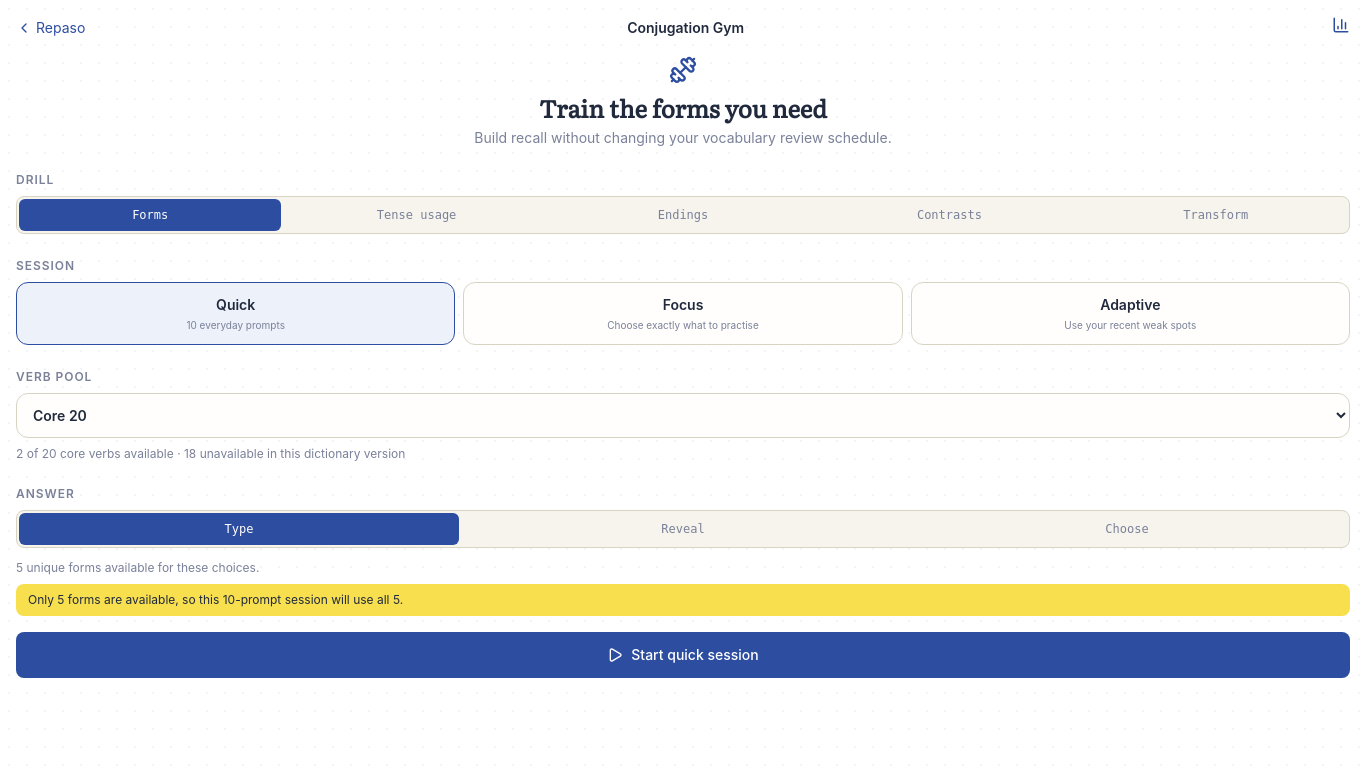
Conjugation Gym setup › loads the verified Spelling-change pack through the same registry
Select "Spelling changes" in the dropdown named "Verb pool". click: (683, 415)
box: left=16, top=392, right=1350, bottom=438
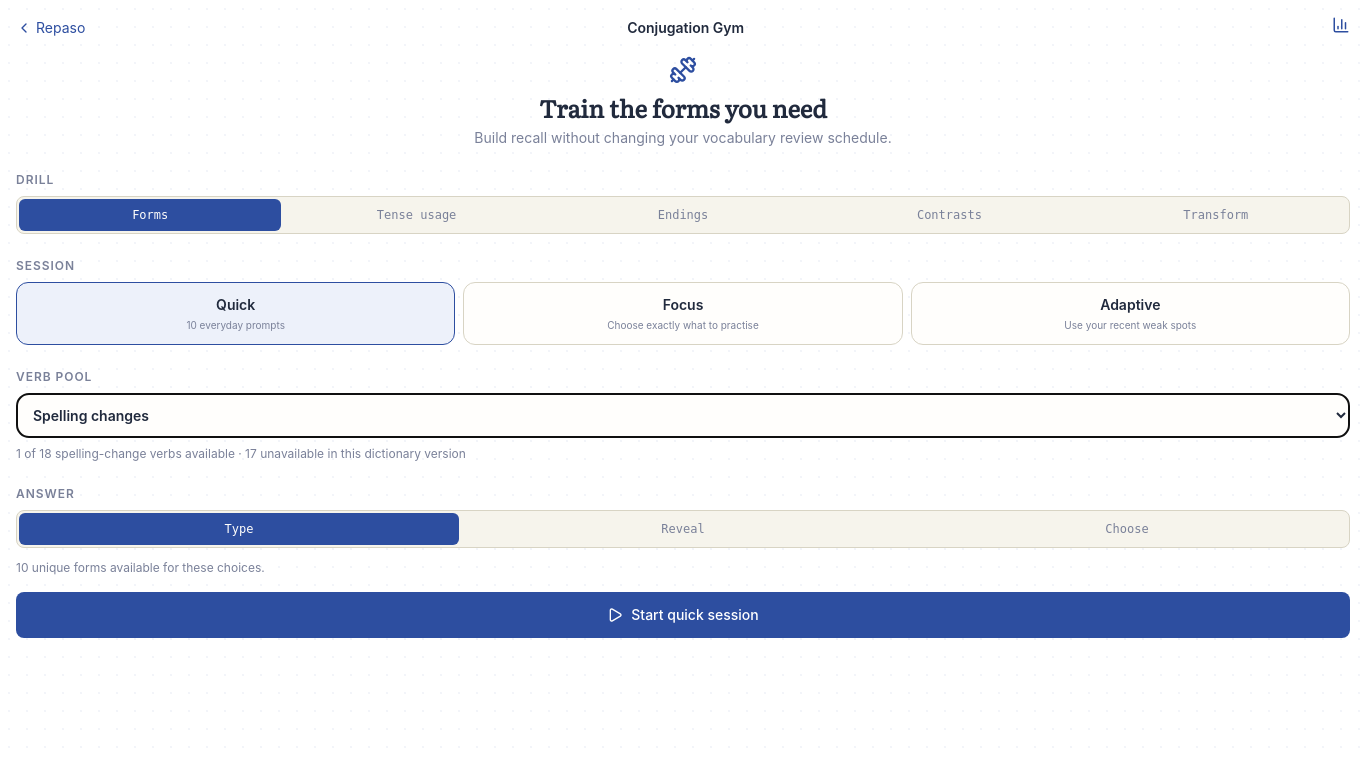
expect the text "1 of 18 spelling-change verbs available" is shown: met, box left=16, top=446, right=235, bottom=460
Click the button "Start quick session". click: (683, 614)
box: left=16, top=592, right=1350, bottom=638
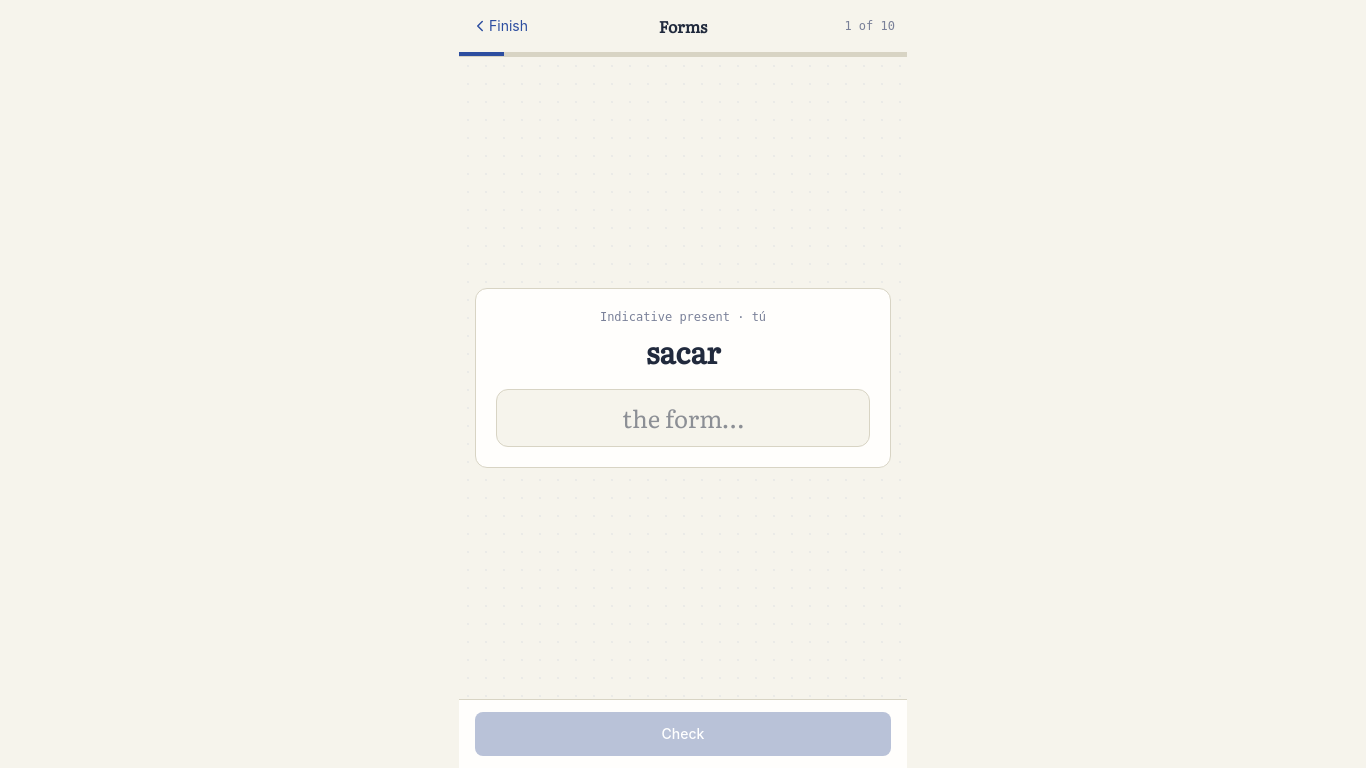
expect the text "sacar" is shown: met, box left=646, top=329, right=720, bottom=373
